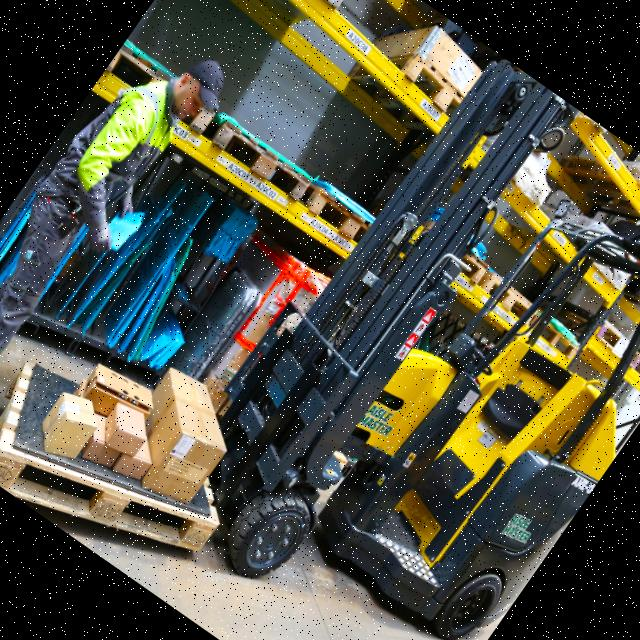Person: (0, 17, 239, 436)
